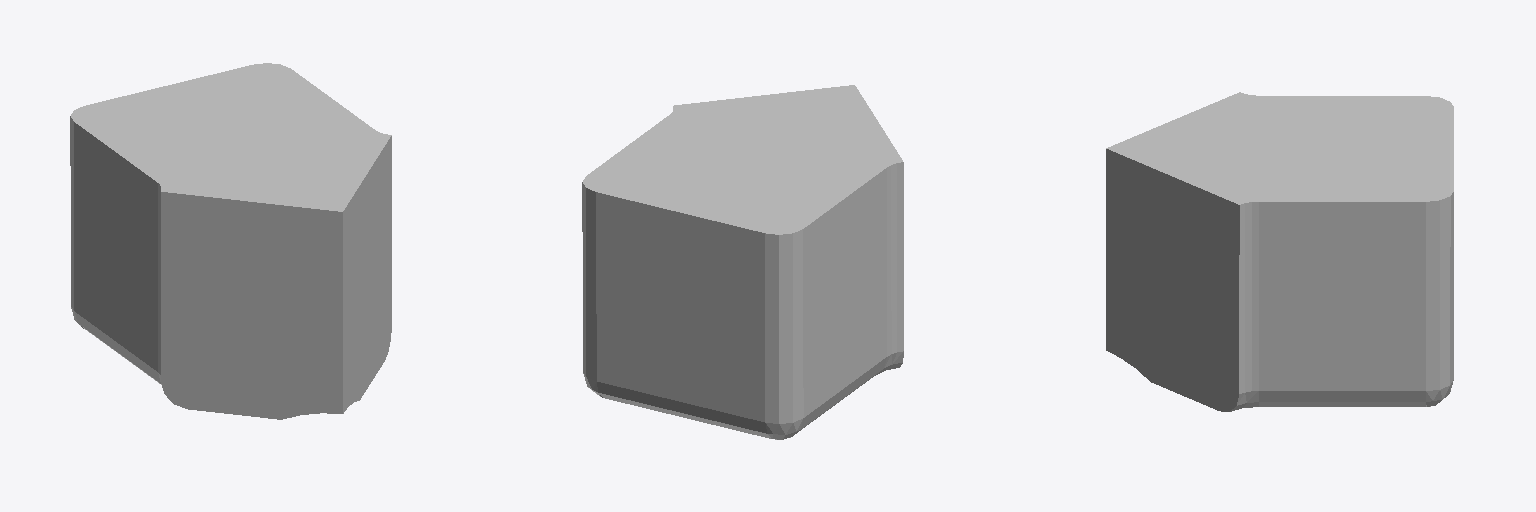
The model's file is DPadDown.obj.
3 views of the same model, side by side, from view 1: azimuth 30°, elevation 25°; view 2: azimuth 150°, elevation 25°; view 3: azimuth 270°, elevation 25° (orthographic).
Parts seen in each view (by area): view 1: DPadDown; view 2: DPadDown; view 3: DPadDown.
Part boxes in pixels (bbox=[...]): DPadDown: bbox=[70, 63, 391, 419]; DPadDown: bbox=[582, 85, 903, 439]; DPadDown: bbox=[1106, 92, 1453, 411].
Size of the model in its own units: 9.59 by 8.52 by 12.51.